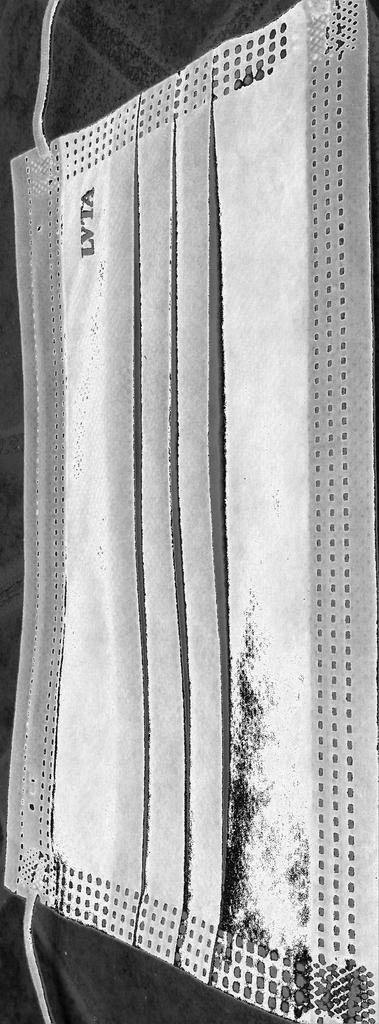High GSM: (53, 32, 321, 957)
